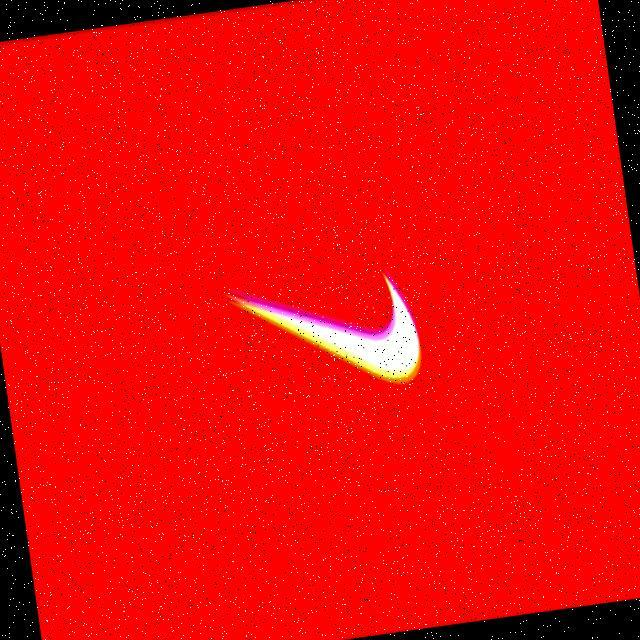Nike: (236, 272, 423, 397)
